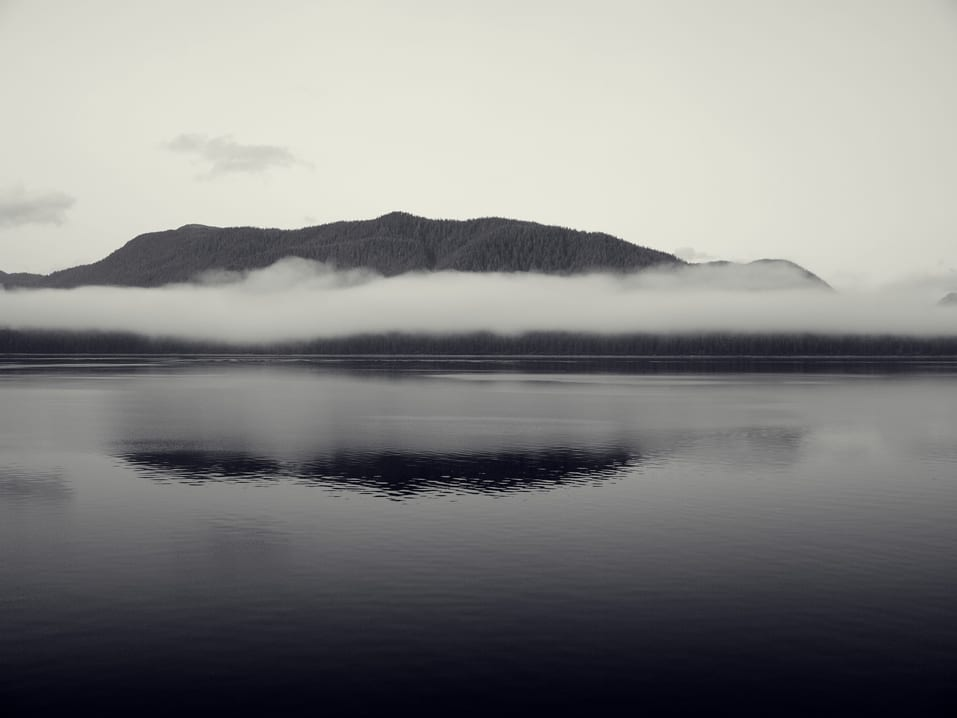Stratus: (1, 246, 957, 347)
